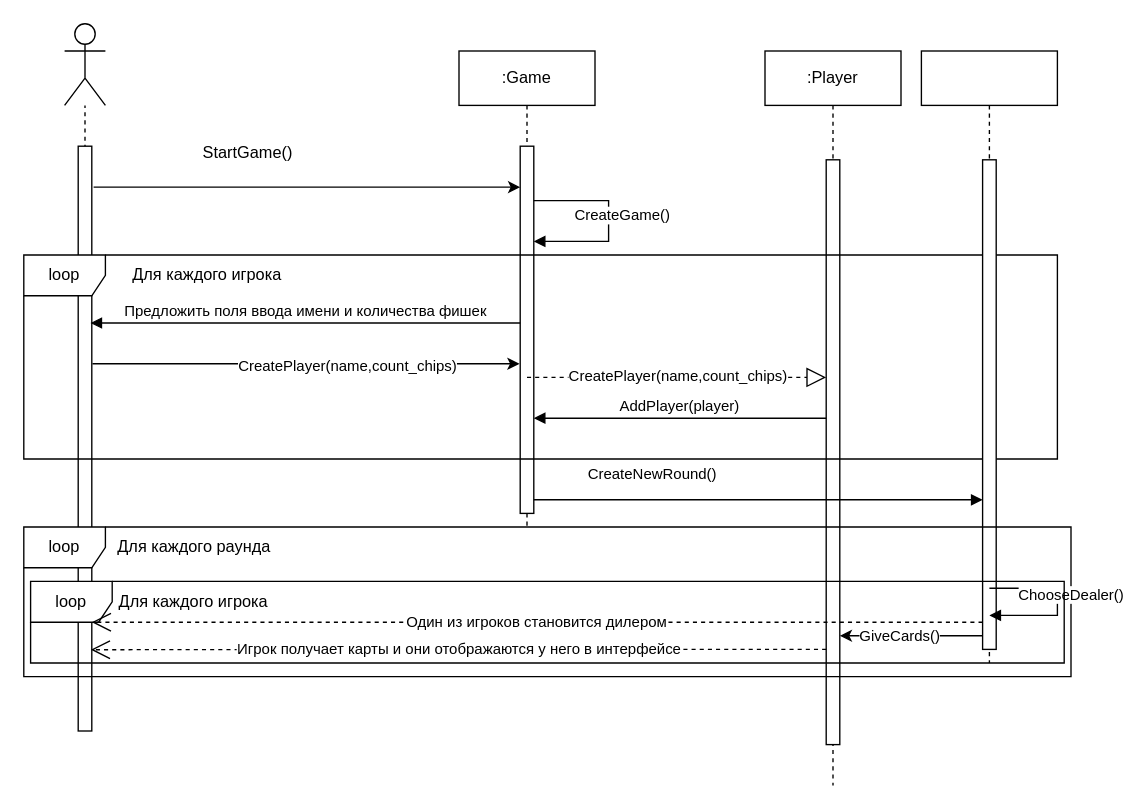
Some shapes in this 1148 by 809 pixel diagram are drawn without their labels. Each missing label, with the box of its shape:
:Round: (920, 50, 1057, 663)
Игрок: (63, 22, 105, 105)
